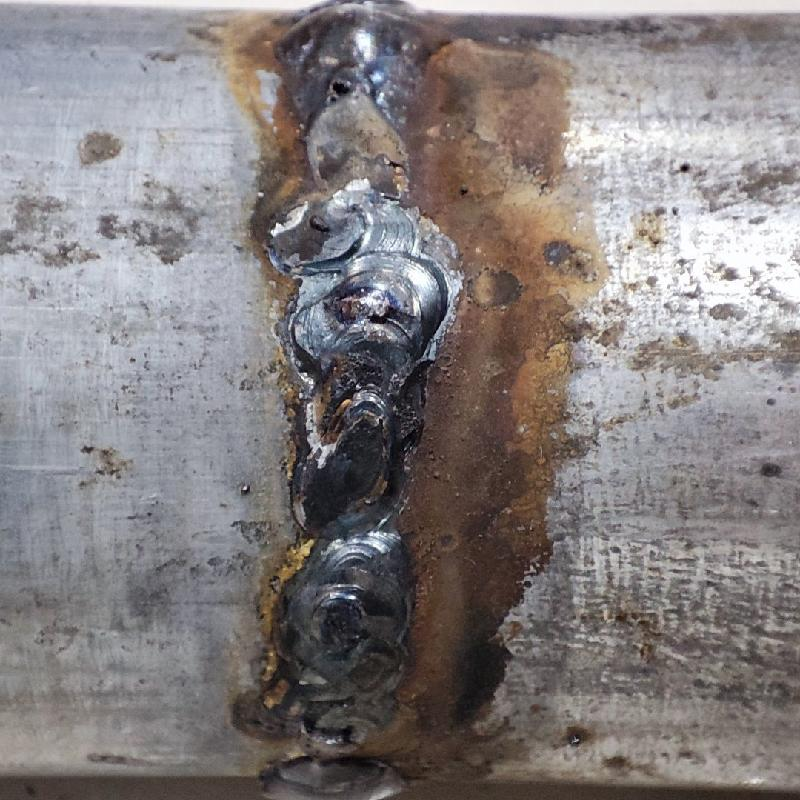Not_fully_soldered: (263, 85, 434, 254)
Surface_pores: (313, 69, 369, 109)
Weld: (260, 1, 436, 109)
wrong_size: (261, 257, 451, 709)
